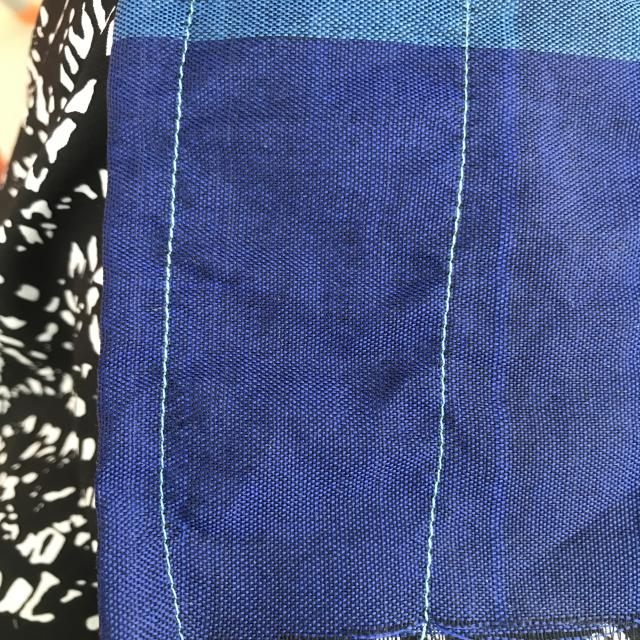good: (162, 150, 184, 269)
